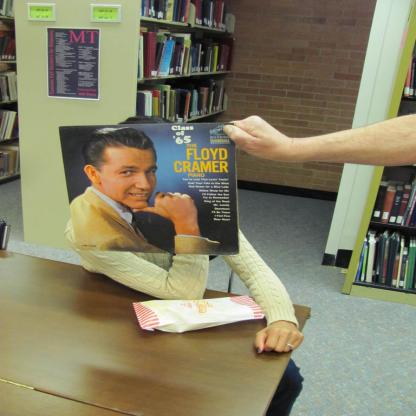book: (139, 22, 234, 80), (350, 226, 416, 290), (136, 77, 227, 120), (363, 171, 416, 232), (140, 1, 227, 28), (0, 140, 21, 178), (0, 63, 18, 100), (404, 53, 416, 101), (0, 110, 18, 141), (0, 33, 15, 62), (0, 0, 16, 19)
